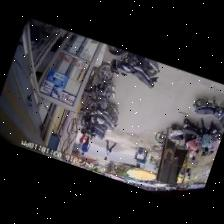person: (200, 117, 212, 150), (187, 133, 199, 152), (104, 139, 115, 159), (81, 135, 89, 154), (77, 134, 84, 150), (188, 149, 195, 159), (107, 160, 113, 171)
